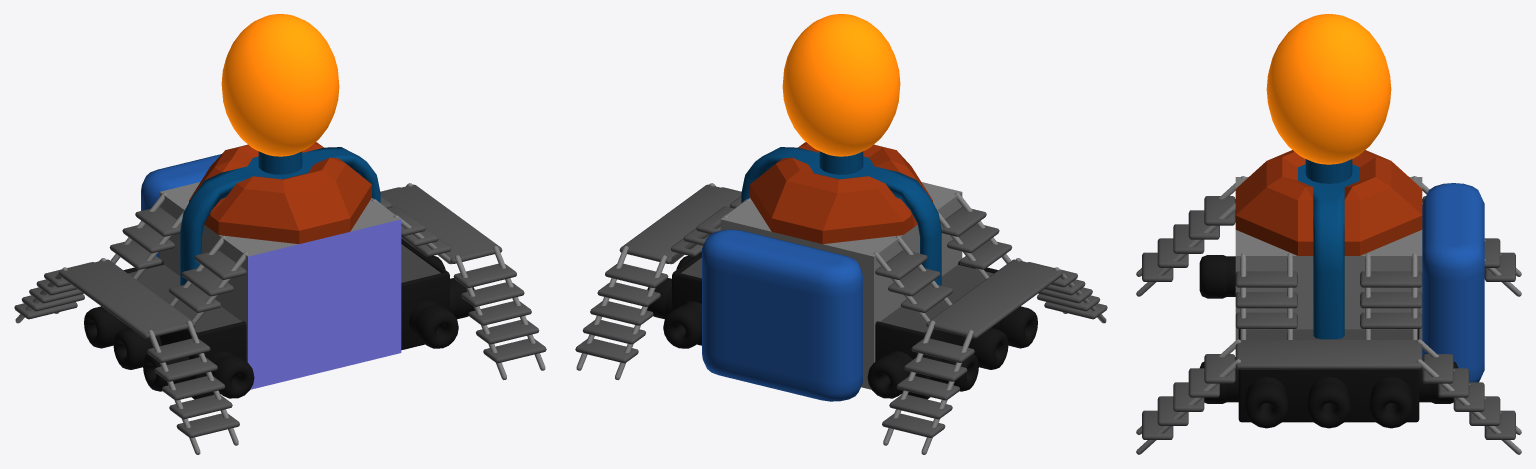
Rendered from LastLuna_Model_Station_Portal.fbx.
The picture shows the model from 3 angles, left to right: view 1: azimuth 30°, elevation 25°; view 2: azimuth 150°, elevation 25°; view 3: azimuth 270°, elevation 25°; orthographic projection. The views are drawn at different scales.
Visible parts, largest first — view 1: Box001, Stair_Platform001, Water_Collector001, Portal001, Portal_Base001, Waterfall001, Stair_Support001, Water_Tank001, Portal_Waterfall001; view 2: Stair_Platform001, Water_Tank001, Portal001, Water_Collector001, Portal_Base001, Box001, Waterfall001, Stair_Support001, Portal_Waterfall001; view 3: Stair_Platform001, Portal001, Water_Collector001, Portal_Base001, Water_Tank001, Box001, Waterfall001, Stair_Support001, Portal_Waterfall001.
Part boxes in pixels (bbox=[...]): Box001: bbox=[159, 182, 401, 389]; Stair_Platform001: bbox=[14, 184, 546, 437]; Water_Collector001: bbox=[84, 238, 474, 399]; Portal001: bbox=[221, 14, 339, 156]; Portal_Base001: bbox=[189, 142, 371, 243]; Waterfall001: bbox=[180, 147, 380, 285]; Stair_Support001: bbox=[15, 183, 545, 454]; Water_Tank001: bbox=[141, 154, 221, 257]; Portal_Waterfall001: bbox=[258, 151, 302, 174]; Stair_Platform001: bbox=[575, 184, 1107, 437]; Water_Tank001: bbox=[702, 229, 862, 401]; Portal001: bbox=[782, 14, 900, 156]; Water_Collector001: bbox=[647, 252, 1037, 399]; Portal_Base001: bbox=[750, 142, 932, 243]; Box001: bbox=[720, 182, 962, 389]; Waterfall001: bbox=[741, 147, 941, 285]; Stair_Support001: bbox=[576, 183, 1106, 454]; Portal_Waterfall001: bbox=[819, 151, 863, 174]; Stair_Platform001: bbox=[1142, 196, 1515, 439]; Portal001: bbox=[1266, 14, 1391, 164]; Water_Collector001: bbox=[1199, 255, 1457, 428]; Portal_Base001: bbox=[1235, 150, 1422, 255]; Water_Tank001: bbox=[1422, 183, 1484, 382]; Box001: bbox=[1235, 177, 1422, 340]; Waterfall001: bbox=[1298, 164, 1359, 339]; Stair_Support001: bbox=[1136, 176, 1521, 454]; Portal_Waterfall001: bbox=[1305, 159, 1352, 183].
Bounding box in the file's own units: 700 × 615 × 619.
